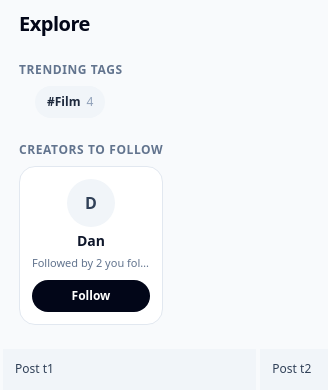
/explore › follows a suggested creator
Click the button with aria-label "Follow Dan" at (91, 296), box [32,280,150,312]
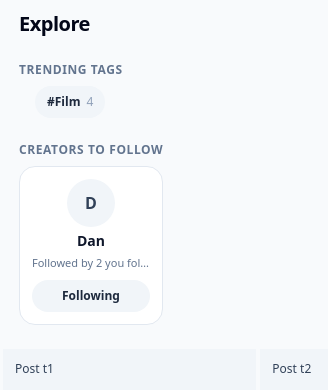
Now the button with aria-label "Unfollow Dan" is shown, box [32,280,150,312]
